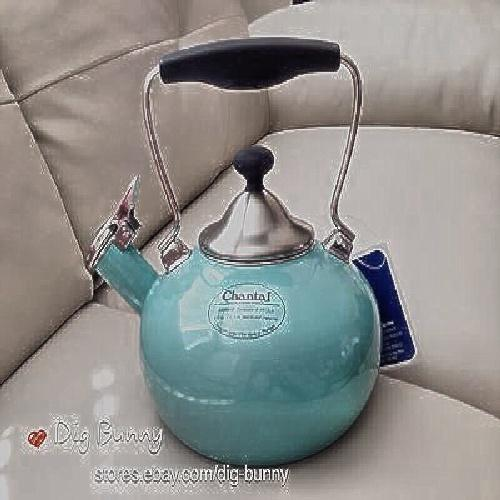kettle: (103, 88, 427, 453)
